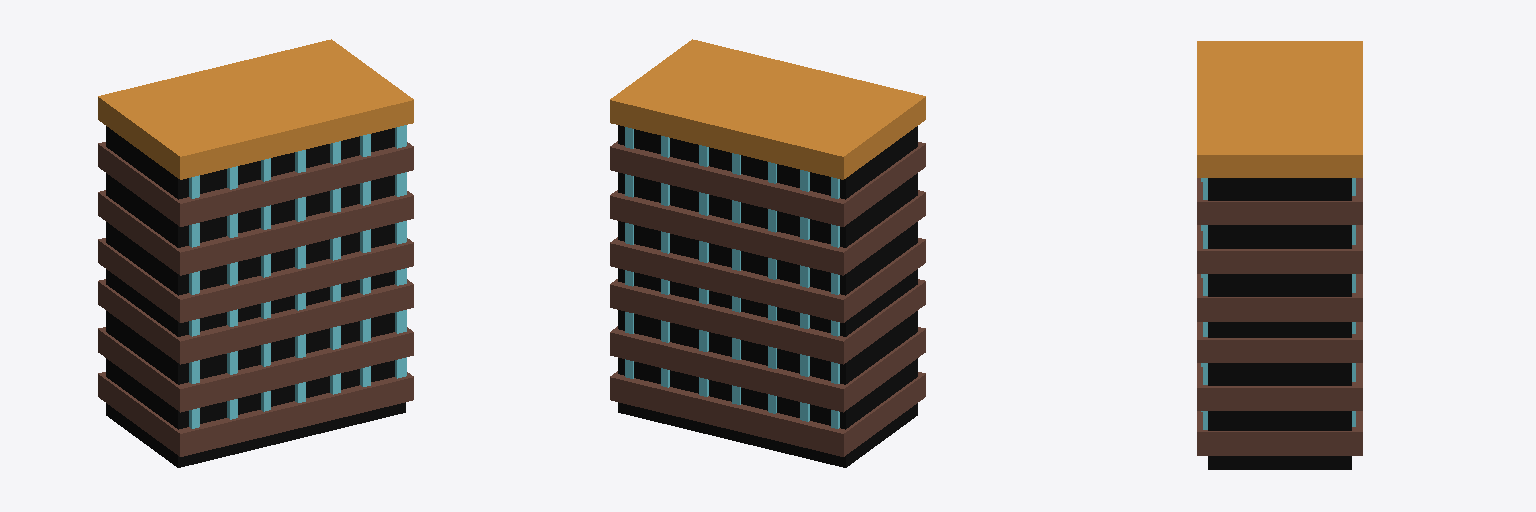
The model's file is building_living.obj.
The picture shows the model from 3 angles: view 1: azimuth 30°, elevation 25°; view 2: azimuth 150°, elevation 25°; view 3: azimuth 270°, elevation 25°; orthographic projection.
Parts seen in each view (by area): view 1: mesh[number redacted]; view 2: mesh[number redacted]; view 3: mesh[number redacted].
Part boxes in pixels (x1,y1,x2,y2): mesh[number redacted]: (98, 39, 413, 467); mesh[number redacted]: (610, 39, 925, 467); mesh[number redacted]: (1197, 41, 1362, 469).
Size of the model in its own units: 0.93 by 1.2 by 0.5703.